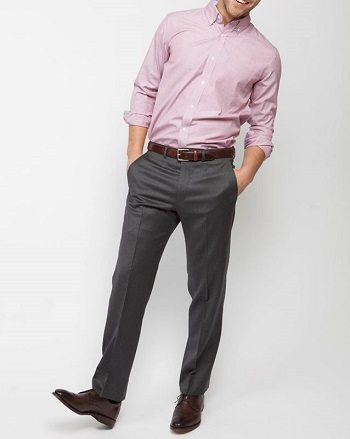F_belt: (145, 141, 237, 163)
F_dress pants: (88, 148, 236, 393)
F_shirt: (132, 9, 284, 150)
